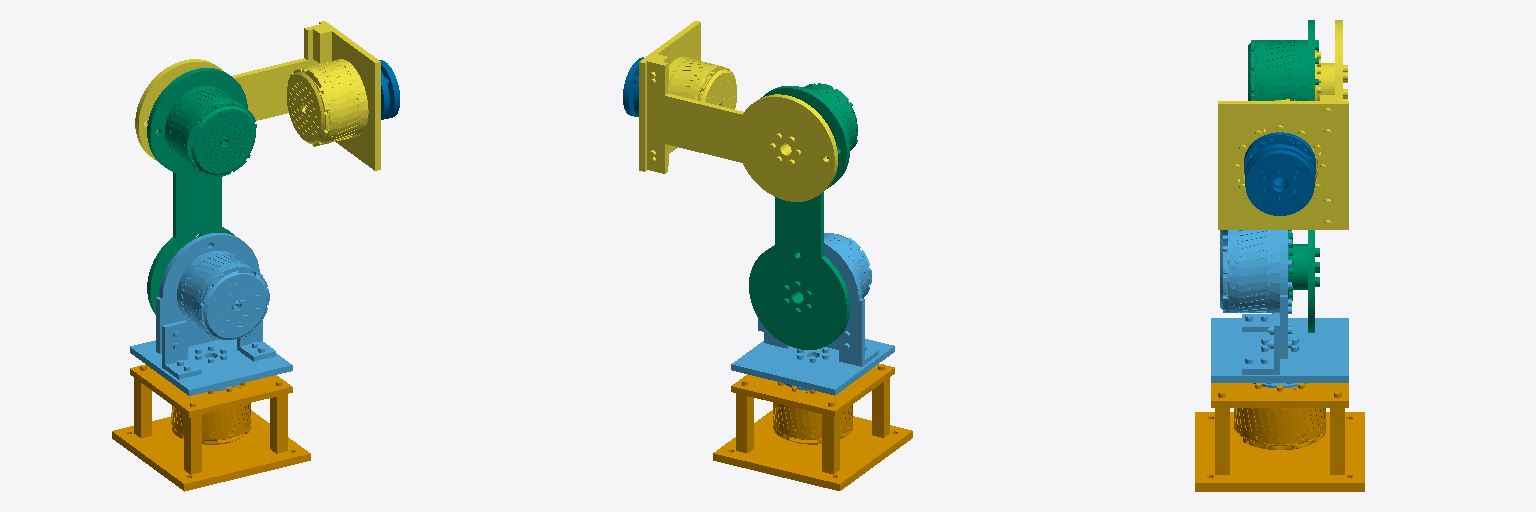
The robot description file, URDF, robot "r4_arm":
<?xml version="1.0"?>
<!-- R4 四轴机械臂 URDF —— 由 tools/build_urdf.py 从装配包自动生成，勿手改 -->
<!-- 几何/位姿: source/assembly.json + CAD/*.STEP (mm) ; 关节轴: 4 个 P04 hub 圆柱轴反算 -->
<robot name="r4_arm">
  <link name="base_link">
    <inertial>
      <origin xyz="-1.5774231e-05 6.30757676e-06 0.0584919243" rpy="0 0 0"/>
      <mass value="5.10617647"/>
      <inertia ixx="0.0495841655" ixy="1.92308825e-06" ixz="5.25375587e-06" iyy="0.0495904919" iyz="-4.56762908e-07" izz="0.0322660054"/>
    </inertial>
    <visual>
      <origin xyz="0 0 0" rpy="0 0 0"/>
      <geometry><mesh filename="package://r4_urdf/meshes/visual/base_link.stl"/></geometry>
    </visual>
    <collision>
      <origin xyz="0 0 0" rpy="0 0 0"/>
      <geometry><mesh filename="package://r4_urdf/meshes/collision/base_link.stl"/></geometry>
    </collision>
  </link>
  <link name="link1">
    <inertial>
      <origin xyz="-1.75975075e-05 -0.0181392176 0.114641286" rpy="0 0 0"/>
      <mass value="4.57712587"/>
      <inertia ixx="0.103180056" ixy="-6.29403316e-06" ixz="1.46172281e-05" iyy="0.104240056" iyz="0.0163323395" izz="0.0169463384"/>
    </inertial>
    <visual>
      <origin xyz="0 0 0" rpy="0 0 0"/>
      <geometry><mesh filename="package://r4_urdf/meshes/visual/link1.stl"/></geometry>
    </visual>
    <collision>
      <origin xyz="0 0 0" rpy="0 0 0"/>
      <geometry><mesh filename="package://r4_urdf/meshes/collision/link1.stl"/></geometry>
    </collision>
  </link>
  <link name="link2">
    <inertial>
      <origin xyz="4.53914026e-05 0.0151252556 0.1845806" rpy="0 0 0"/>
      <mass value="4.11189848"/>
      <inertia ixx="0.240847789" ixy="-7.41472532e-06" ixz="-3.70984132e-05" iyy="0.241151407" iyz="-0.00193683329" izz="0.00931753278"/>
    </inertial>
    <visual>
      <origin xyz="0 0 0" rpy="0 0 0"/>
      <geometry><mesh filename="package://r4_urdf/meshes/visual/link2.stl"/></geometry>
    </visual>
    <collision>
      <origin xyz="0 0 0" rpy="0 0 0"/>
      <geometry><mesh filename="package://r4_urdf/meshes/collision/link2.stl"/></geometry>
    </collision>
  </link>
  <link name="link3">
    <inertial>
      <origin xyz="0.161511442 -0.0108536446 6.85007367e-06" rpy="0 0 0"/>
      <mass value="4.70178885"/>
      <inertia ixx="0.0228339478" ixy="0.0283159976" ixz="-5.5127275e-06" iyy="0.203140127" iyz="3.89297366e-06" izz="0.210390863"/>
    </inertial>
    <visual>
      <origin xyz="0 0 0" rpy="0 0 0"/>
      <geometry><mesh filename="package://r4_urdf/meshes/visual/link3.stl"/></geometry>
    </visual>
    <collision>
      <origin xyz="0 0 0" rpy="0 0 0"/>
      <geometry><mesh filename="package://r4_urdf/meshes/collision/link3.stl"/></geometry>
    </collision>
  </link>
  <link name="link4">
    <inertial>
      <origin xyz="0.0299405876 0 0" rpy="0 0 0"/>
      <mass value="0.839127169"/>
      <inertia ixx="0.00103521926" ixy="0" ixz="0" iyy="0.00194260597" iyz="0" izz="0.00194242852"/>
    </inertial>
    <visual>
      <origin xyz="0 0 0" rpy="0 0 0"/>
      <geometry><mesh filename="package://r4_urdf/meshes/visual/link4.stl"/></geometry>
    </visual>
    <collision>
      <origin xyz="0 0 0" rpy="0 0 0"/>
      <geometry><mesh filename="package://r4_urdf/meshes/collision/link4.stl"/></geometry>
    </collision>
  </link>
  <link name="tool_link"/>
  <joint name="joint1" type="continuous">
    <parent link="base_link"/>
    <child link="link1"/>
    <origin xyz="0 0 0.11" rpy="0 0 0"/>
    <axis xyz="0 0 1"/>
    <limit effort="46.37" velocity="1"/>
    <dynamics damping="0.5" friction="0.2"/>
  </joint>
  <joint name="joint2" type="continuous">
    <parent link="link1"/>
    <child link="link2"/>
    <origin xyz="0 0 0.16" rpy="0 0 0"/>
    <axis xyz="0 1 0"/>
    <limit effort="46.37" velocity="1"/>
    <dynamics damping="0.5" friction="0.2"/>
  </joint>
  <joint name="joint3" type="continuous">
    <parent link="link2"/>
    <child link="link3"/>
    <origin xyz="0 0.036 0.26" rpy="0 0 0"/>
    <axis xyz="0 1 0"/>
    <limit effort="14.5" velocity="1"/>
    <dynamics damping="0.5" friction="0.2"/>
  </joint>
  <joint name="joint4" type="continuous">
    <parent link="link3"/>
    <child link="link4"/>
    <origin xyz="0.24 -0.036 0" rpy="0 0 0"/>
    <axis xyz="1 0 0"/>
    <limit effort="1" velocity="1"/>
    <dynamics damping="0.5" friction="0.2"/>
  </joint>
  <joint name="tool_mount" type="fixed">
    <parent link="link4"/>
    <child link="tool_link"/>
    <origin xyz="0.064 0 0" rpy="0 0 0"/>
  </joint>
  <transmission name="joint1_trans">
    <type>transmission_interface/SimpleTransmission</type>
    <joint name="joint1"><hardwareInterface>hardware_interface/PositionJointInterface</hardwareInterface></joint>
    <actuator name="joint1_motor"><mechanicalReduction>1</mechanicalReduction></actuator>
  </transmission>
  <transmission name="joint2_trans">
    <type>transmission_interface/SimpleTransmission</type>
    <joint name="joint2"><hardwareInterface>hardware_interface/PositionJointInterface</hardwareInterface></joint>
    <actuator name="joint2_motor"><mechanicalReduction>1</mechanicalReduction></actuator>
  </transmission>
  <transmission name="joint3_trans">
    <type>transmission_interface/SimpleTransmission</type>
    <joint name="joint3"><hardwareInterface>hardware_interface/PositionJointInterface</hardwareInterface></joint>
    <actuator name="joint3_motor"><mechanicalReduction>1</mechanicalReduction></actuator>
  </transmission>
  <transmission name="joint4_trans">
    <type>transmission_interface/SimpleTransmission</type>
    <joint name="joint4"><hardwareInterface>hardware_interface/PositionJointInterface</hardwareInterface></joint>
    <actuator name="joint4_motor"><mechanicalReduction>1</mechanicalReduction></actuator>
  </transmission>
</robot>

--- What the picture shows (computed from the rendered views, not written in the file) ---
The picture shows the robot from 3 angles, left to right: view 1: azimuth 30°, elevation 25°; view 2: azimuth 150°, elevation 25°; view 3: azimuth 270°, elevation 25°; orthographic projection.
Model r4_arm with 6 links and 5 joints (4 continuous, 1 fixed), rooted at base_link, posed every joint at zero.
Visible links, largest first — view 1: link1, base_link, link3, link2, link4; view 2: link3, base_link, link2, link1, link4; view 3: base_link, link1, link3, link2, link4.
Boxes of the visible links, bbox=[...] form: link1: bbox=[130, 233, 292, 395]; base_link: bbox=[112, 364, 310, 491]; link3: bbox=[135, 21, 380, 170]; link2: bbox=[147, 68, 256, 314]; link4: bbox=[379, 60, 399, 119]; link3: bbox=[639, 21, 837, 201]; base_link: bbox=[713, 364, 912, 490]; link2: bbox=[749, 83, 857, 349]; link1: bbox=[731, 233, 894, 395]; link4: bbox=[623, 57, 643, 116]; base_link: bbox=[1195, 383, 1364, 491]; link1: bbox=[1211, 230, 1348, 387]; link3: bbox=[1218, 20, 1348, 229]; link2: bbox=[1248, 20, 1319, 332]; link4: bbox=[1244, 132, 1315, 215].
Bounding box of the posed robot: 0.414 × 0.22 × 0.62 m (x, y, z).
5 mesh visuals loaded from 5 distinct referenced files (5 binary STL).
